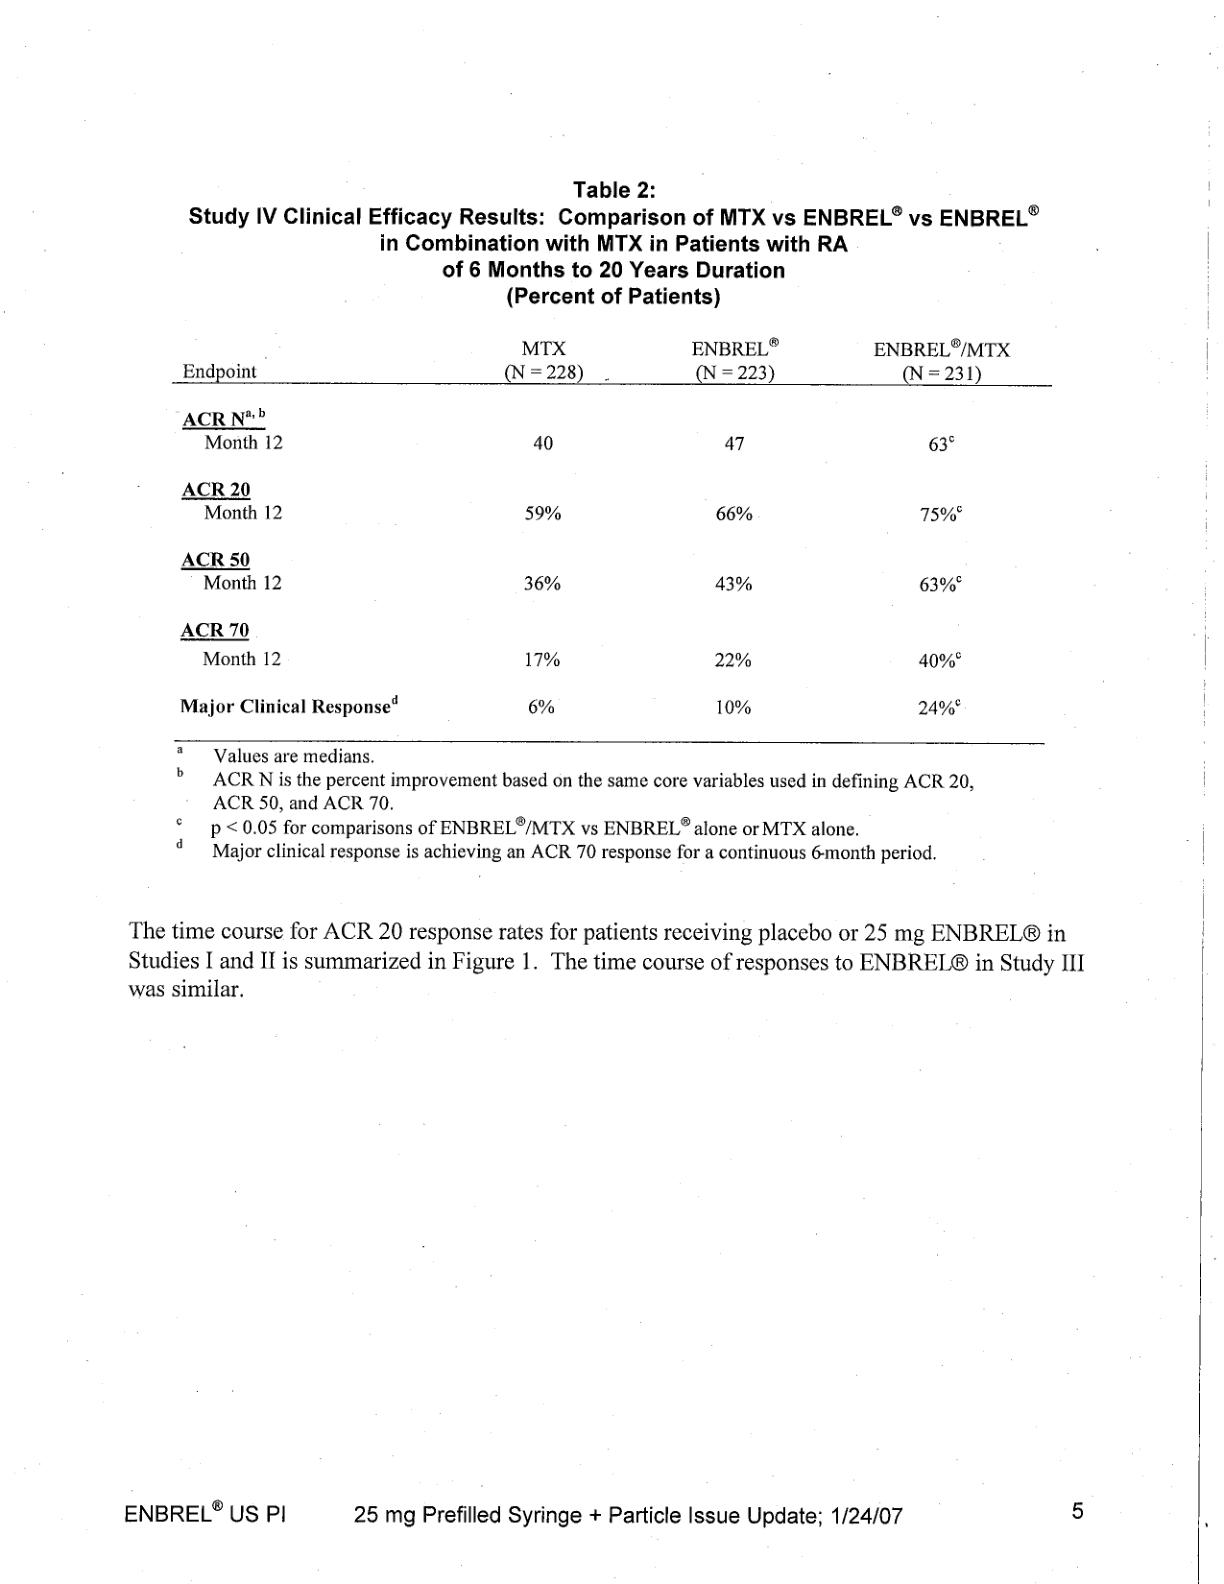partial_lined: (172, 334, 1050, 743)
